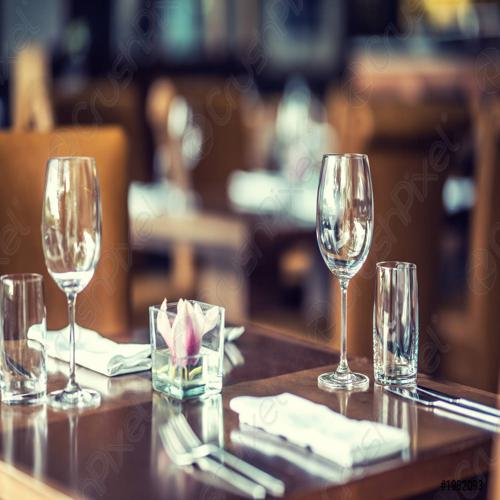copa: (43, 157, 103, 412), (318, 152, 371, 392), (2, 275, 47, 410)
vaso: (374, 259, 419, 388)
